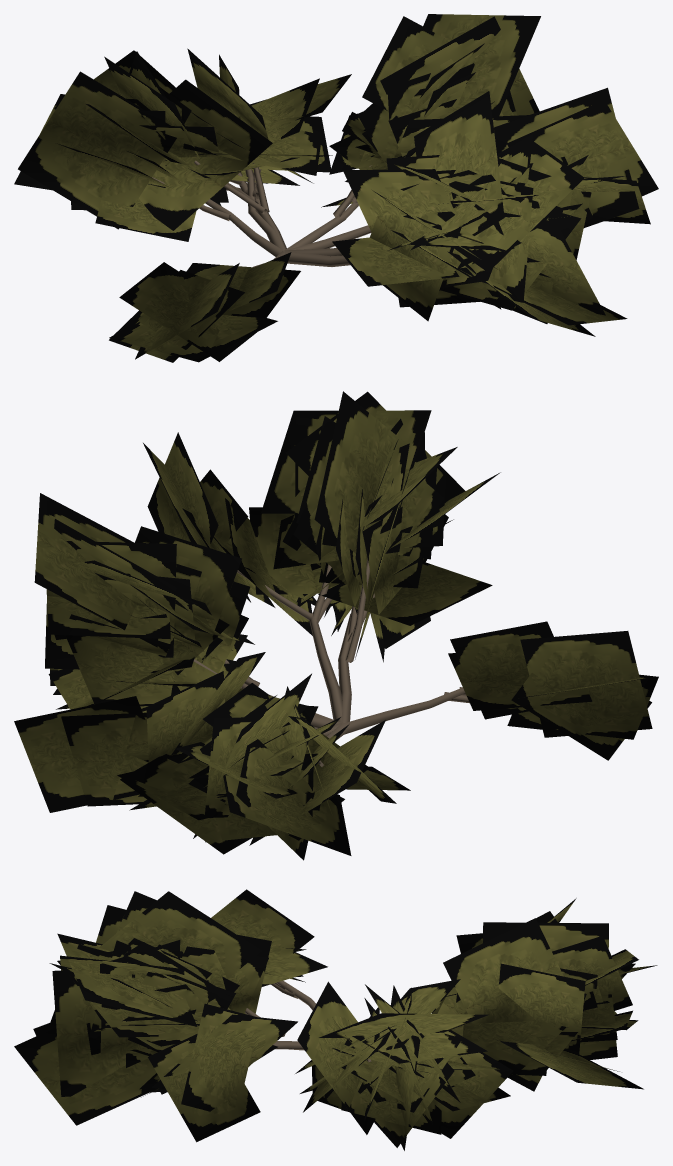
Rendered from juniper_1_burnt1.glb.
The picture shows the model from 3 angles, top to bottom: view 1: azimuth 30°, elevation 25°; view 2: azimuth 150°, elevation 25°; view 3: azimuth 270°, elevation 25°; orthographic projection. The views are drawn at different scales.
Visible parts, largest first — view 1: juniper_1_burnt1; view 2: juniper_1_burnt1; view 3: juniper_1_burnt1.
Part boxes in pixels (x1,y1,x2,y2): juniper_1_burnt1: (14, 14, 658, 362); juniper_1_burnt1: (14, 391, 658, 860); juniper_1_burnt1: (14, 889, 657, 1150).
Size of the model in its own units: 3.03 by 1.28 by 3.66.
2 materials, 1 textured.
